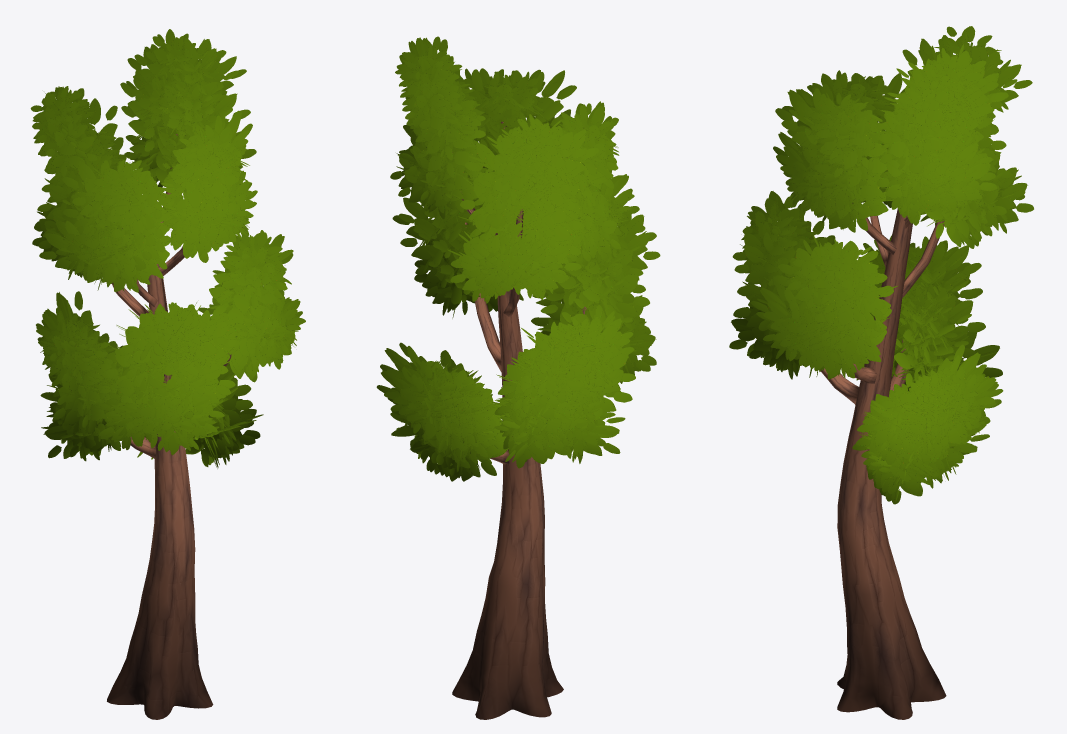
The model's file is CommonTree_3.glb.
3 views of the same model, side by side, from view 1: azimuth 30°, elevation 25°; view 2: azimuth 150°, elevation 25°; view 3: azimuth 270°, elevation 25° (orthographic). The views are drawn at different scales.
Visible parts, largest first — view 1: CommonTree_3; view 2: CommonTree_3; view 3: CommonTree_3.
Part boxes in pixels (x1,y1,x2,y2): CommonTree_3: (30,29,305,719); CommonTree_3: (376,36,660,719); CommonTree_3: (729,26,1033,719).
Bounding box in the file's own units: 4.06 × 9.43 × 4.24.
Materials: 2 (2 with a texture image).
